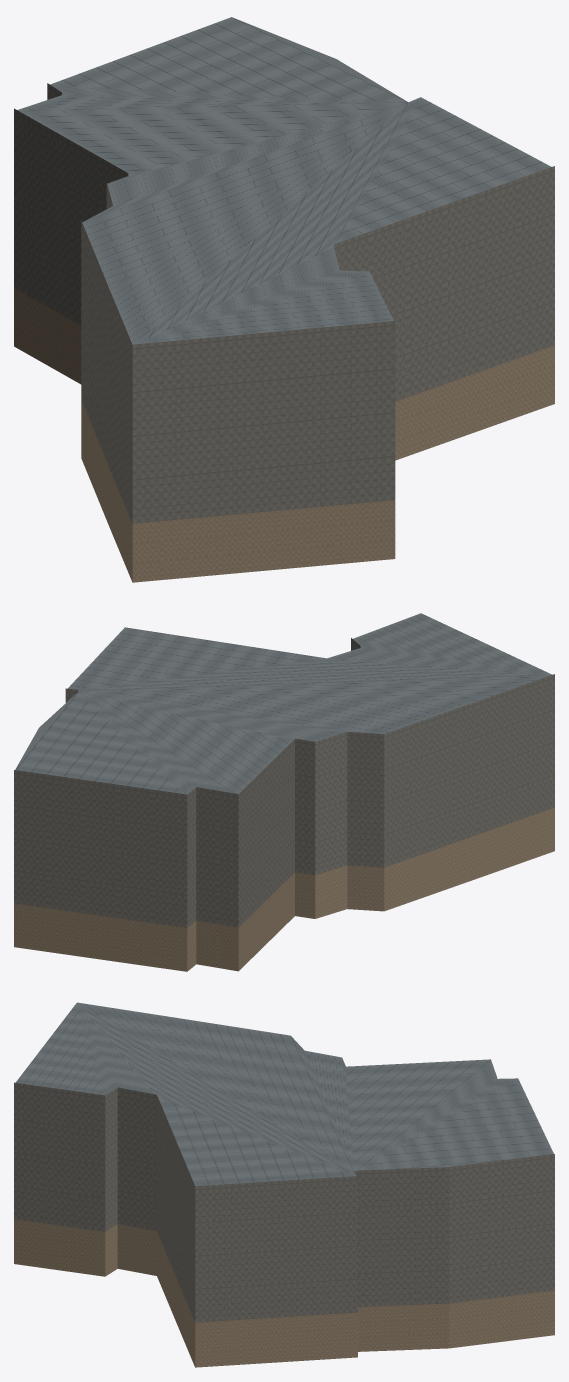
Rendered from bld_c-1_0_537.gltf.
3 renders of one model, top to bottom at view 1: azimuth 30°, elevation 25°; view 2: azimuth 150°, elevation 25°; view 3: azimuth 270°, elevation 25°, orthographic. The views are drawn at different scales.
Visible parts, largest first — view 1: bld_c-1_0_537; view 2: bld_c-1_0_537; view 3: bld_c-1_0_537.
Part boxes in pixels (bbox=[...]): bld_c-1_0_537: bbox=[14, 17, 554, 582]; bld_c-1_0_537: bbox=[14, 613, 554, 971]; bld_c-1_0_537: bbox=[14, 1002, 554, 1367].
Size of the model in its own units: 45.23 by 20.58 by 55.64.
4 materials, 4 textured.
